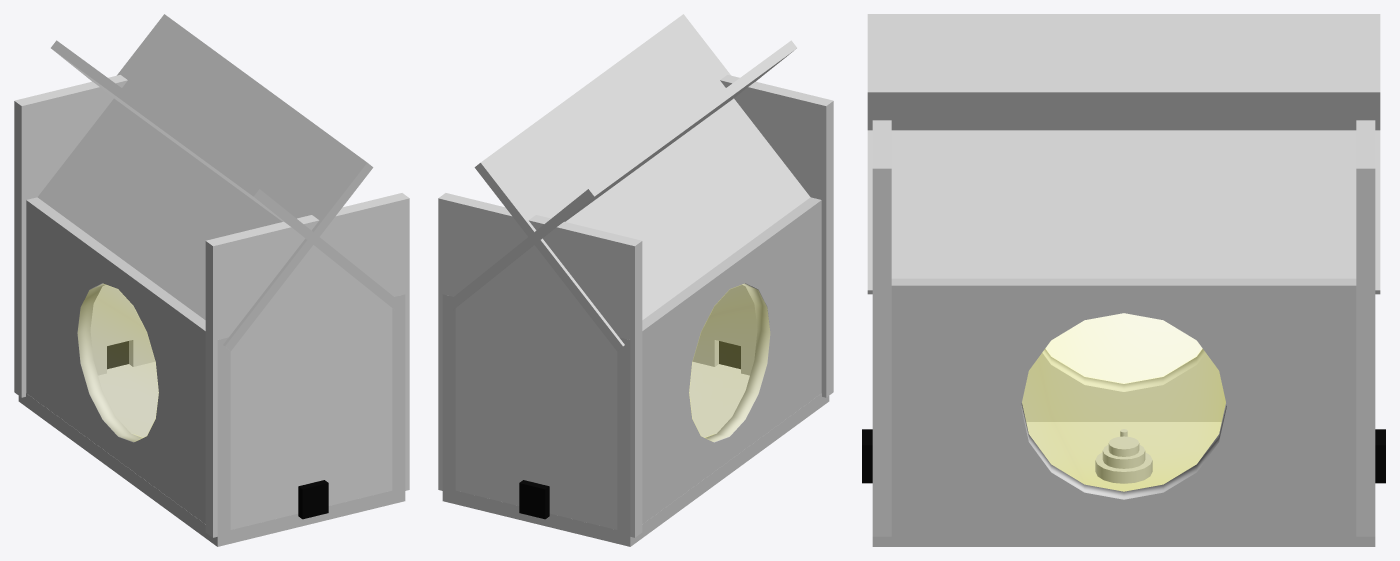
File: tf-pedestal.glb
The picture shows the model from 3 angles, left to right: view 1: azimuth 30°, elevation 25°; view 2: azimuth 150°, elevation 25°; view 3: azimuth 270°, elevation 25°; orthographic projection. The views are drawn at different scales.
Visible parts, largest first — view 1: Cube.002-col, Cube, Cube.001-col, Cube.003, floor-col, doorvoid-col; view 2: Cube.002-col, Cube, Cube.001-col, Cube.003, floor-col, doorvoid-col; view 3: Cube, Cube.001-col, Cube.003, floor-col, Cube.002-col, doorvoid-col, Cylinder.002-col, Cylinder.001-col.
Boxes of the visible parts, box(x1,y1,x2,y2) form: Cube.002-col: box(14, 75, 409, 537); Cube: box(37, 14, 401, 350); Cube.001-col: box(26, 197, 405, 536); Cube.003: box(78, 283, 158, 441); floor-col: box(18, 362, 405, 546); doorvoid-col: box(107, 341, 328, 519); Cube.002-col: box(438, 75, 833, 537); Cube: box(446, 14, 810, 350); Cube.001-col: box(442, 197, 821, 535); Cube.003: box(689, 283, 769, 441); floor-col: box(442, 362, 829, 546); doorvoid-col: box(519, 341, 740, 519); Cube: box(867, 14, 1380, 294); Cube.001-col: box(891, 278, 1356, 529); Cube.003: box(1022, 313, 1225, 491); floor-col: box(872, 422, 1375, 546); Cube.002-col: box(872, 120, 1375, 536); doorvoid-col: box(862, 429, 1385, 483); Cylinder.002-col: box(1095, 452, 1152, 483); Cylinder.001-col: box(1102, 444, 1145, 468).
Size of what is drawn, in the model's own units: 18.78 by 33.55 by 34.3.
